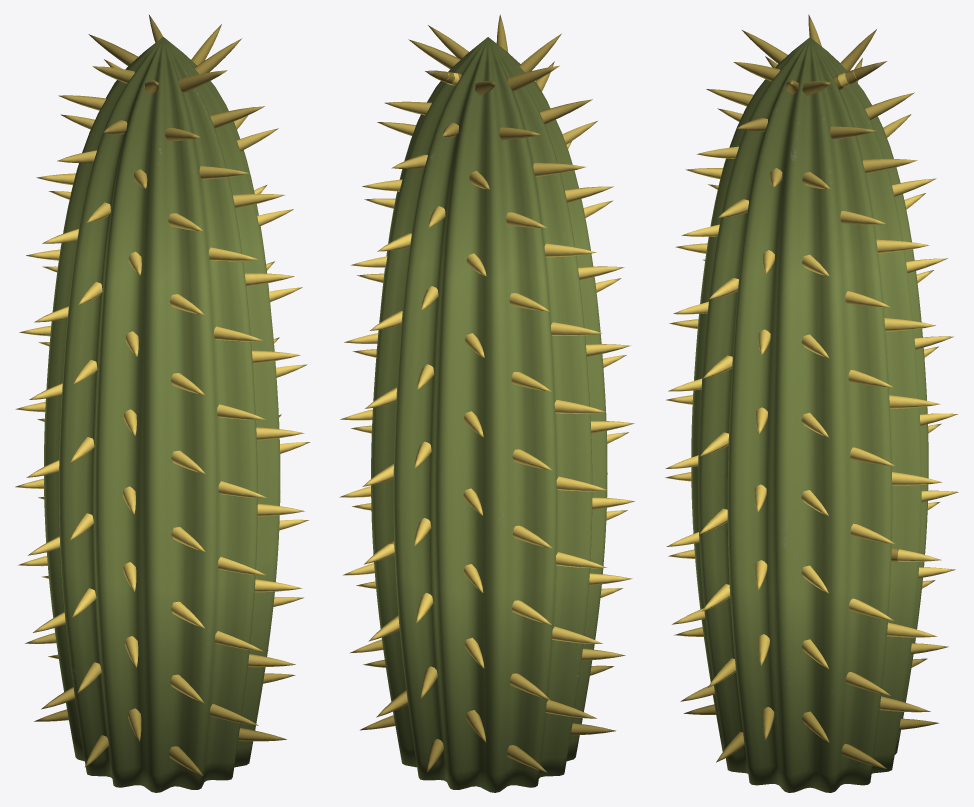
Rendered from Cactus.fbx.
The picture shows the model from 3 angles, left to right: view 1: azimuth 30°, elevation 25°; view 2: azimuth 150°, elevation 25°; view 3: azimuth 270°, elevation 25°; orthographic projection.
Parts seen in each view (by area): view 1: Cactus spear.002; view 2: Cactus spear.002; view 3: Cactus spear.002.
Part boxes in pixels (bbox=[...]): Cactus spear.002: bbox=[15, 15, 310, 792]; Cactus spear.002: bbox=[339, 14, 634, 792]; Cactus spear.002: bbox=[665, 14, 958, 792].
Bounding box in the file's own units: 105 × 280 × 104.
